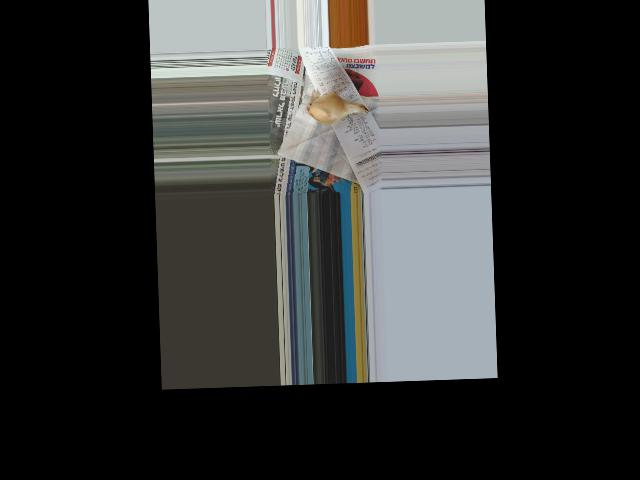onion: (309, 93, 353, 123)
